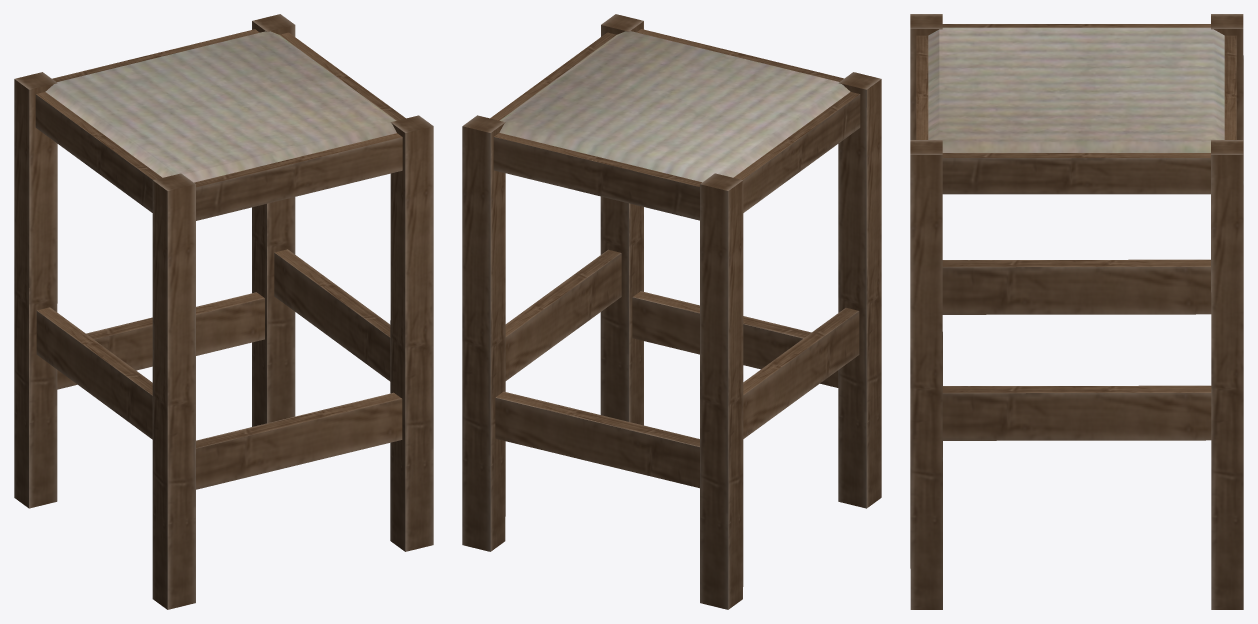
File: chair14.fbx
3 views of the same model, side by side, from view 1: azimuth 30°, elevation 25°; view 2: azimuth 150°, elevation 25°; view 3: azimuth 270°, elevation 25° (orthographic). The views are drawn at different scales.
Parts seen in each view (by area): view 1: chair14; view 2: chair14; view 3: chair14.
Boxes of the visible parts, x1,y1,x2,y2 form: chair14: (14,14,433,609); chair14: (462,14,881,609); chair14: (910,14,1243,609).
Size of the model in its own units: 43.76 by 65.83 by 43.74.
